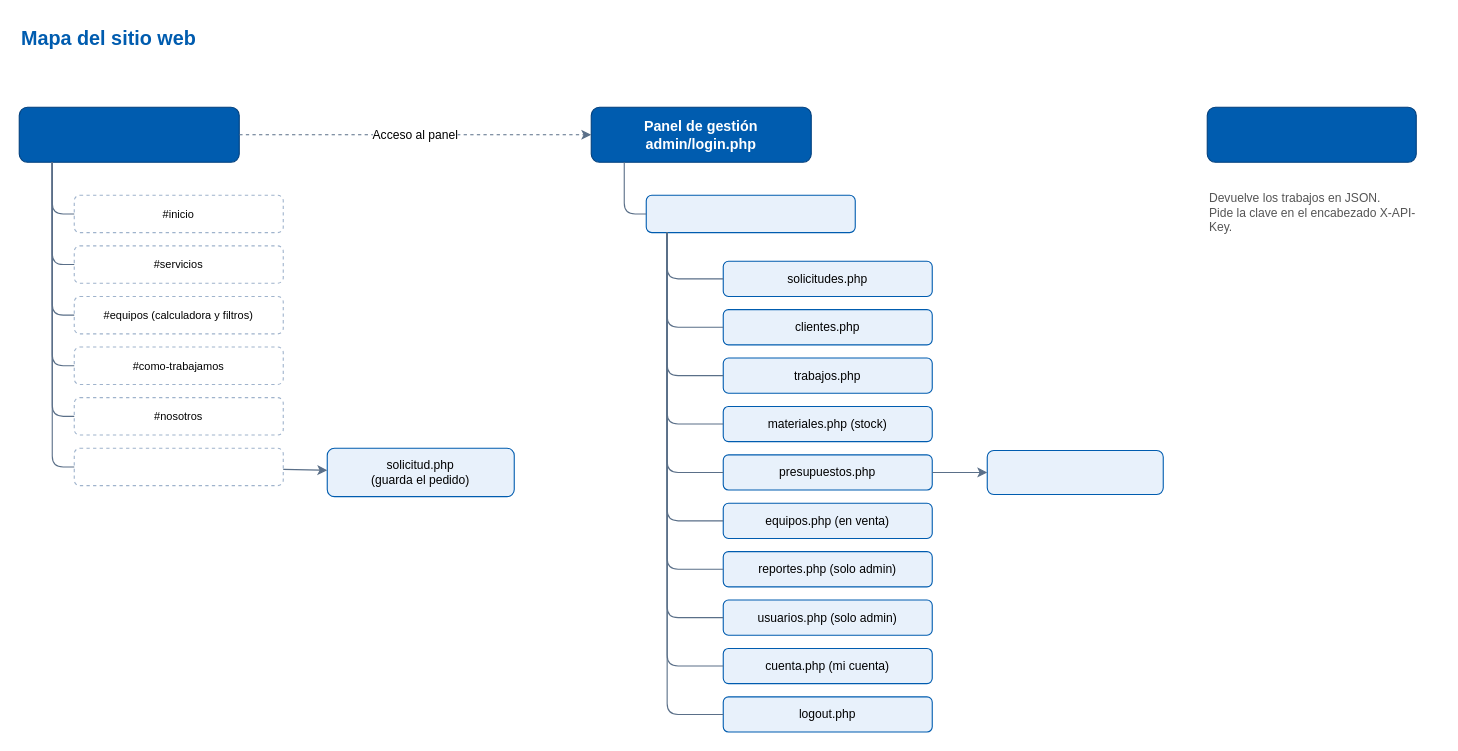
This 1458x751 diagram has some shape labels left out. Each missing label, with the centre of its shape:
"#contacto (formulario)" goes at pixel 178 466.
"admin/index.php (inicio)" goes at pixel 750 213.
"API JSON api/trabajos.php" goes at pixel 1311 134.
"presupuesto.php (imprimir / PDF)" goes at pixel 1074 471.
"Sitio público index.php" goes at pixel 128 134.
